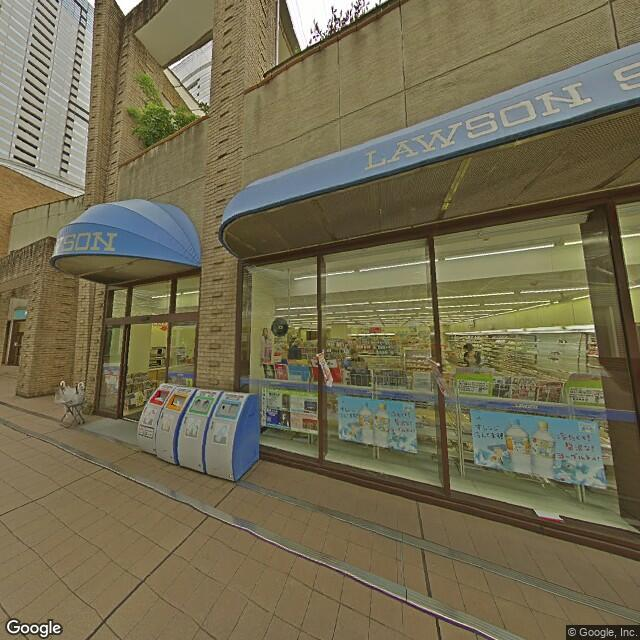lawson: (241, 41, 639, 214), (49, 220, 121, 256)
